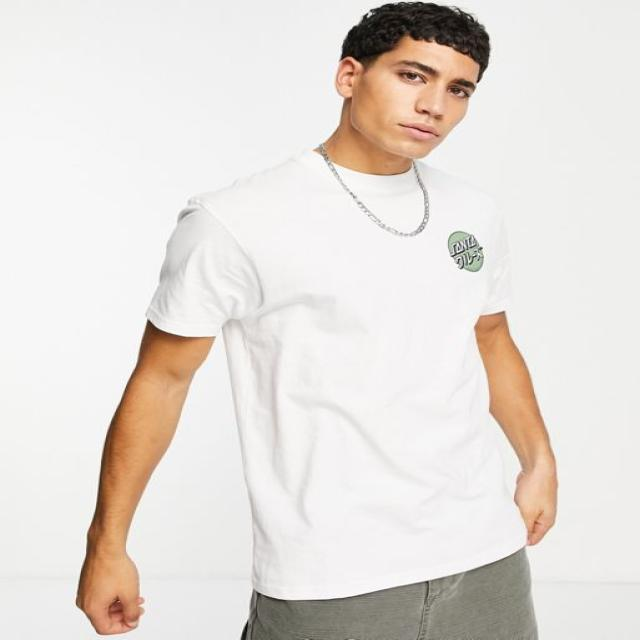tshirt: (143, 148, 532, 597)
